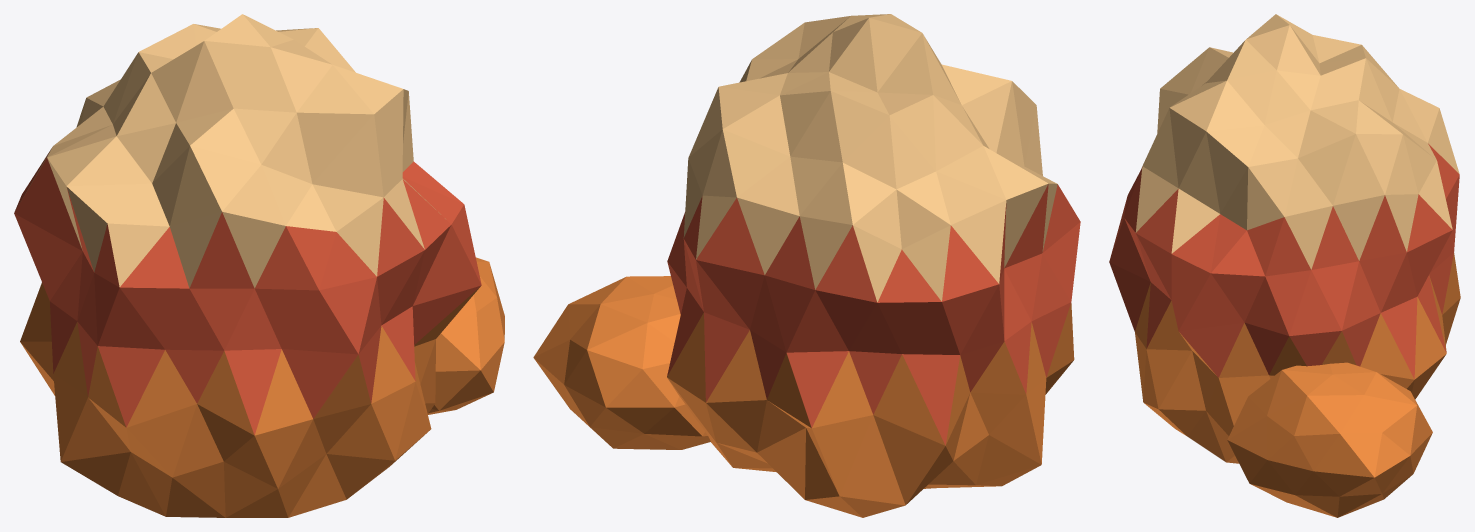
File: desert_rock_b.glb
3 views of the same model, side by side, from view 1: azimuth 30°, elevation 25°; view 2: azimuth 150°, elevation 25°; view 3: azimuth 270°, elevation 25° (orthographic). The views are drawn at different scales.
Parts seen in each view (by area): view 1: desert_rock_b; view 2: desert_rock_b; view 3: desert_rock_b.
Part boxes in pixels (box(x1,y1,x2,y2)): desert_rock_b: box(14, 14, 504, 517); desert_rock_b: box(533, 14, 1080, 517); desert_rock_b: box(1109, 14, 1460, 517).
Size of the model in its own units: 4.4 by 3.98 by 3.27.
